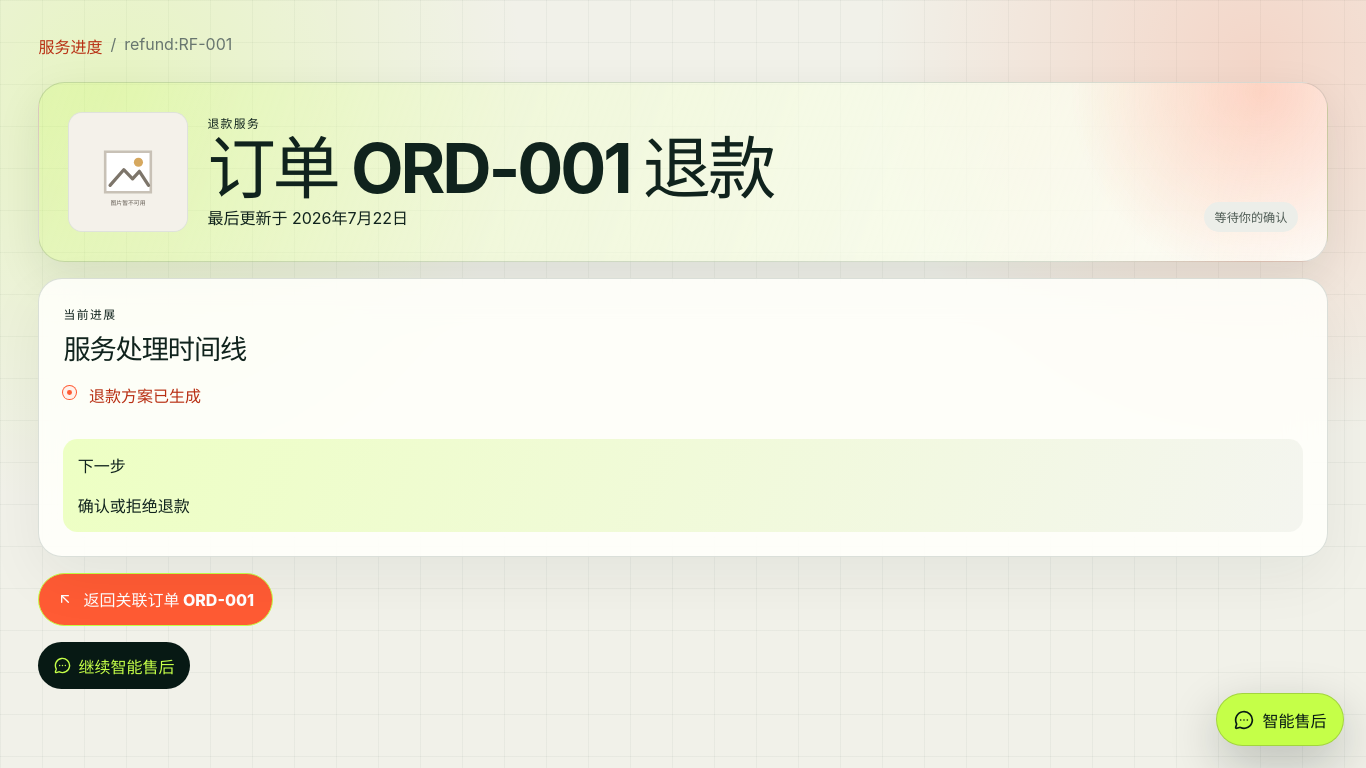
Test case: 服务详情通过关联订单恢复活动会话
Expected: the text "退款方案已生成" is shown, [89, 386, 201, 406]
Click the button "继续智能售后". click: (114, 666)
box: [38, 642, 190, 689]
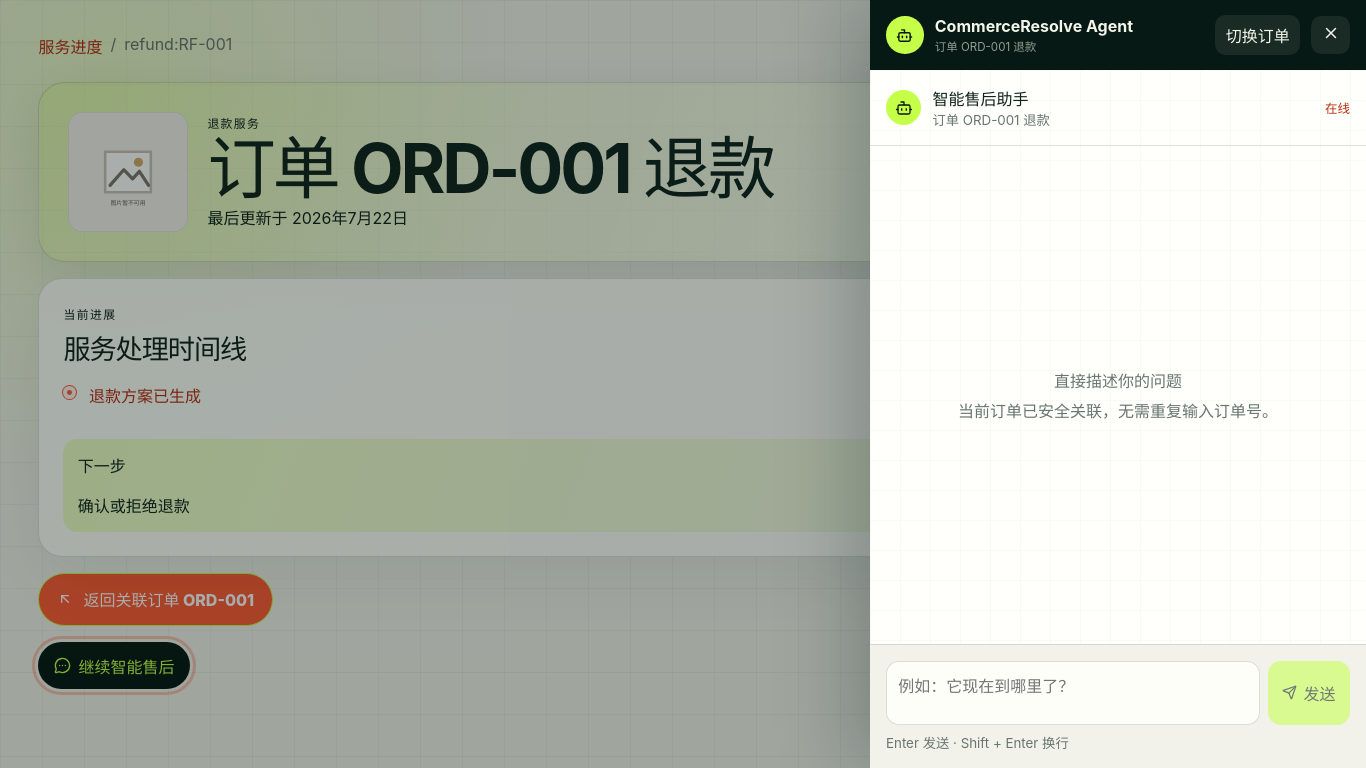
Expected: the text "直接描述你的问题" is shown, [1054, 371, 1182, 391]
